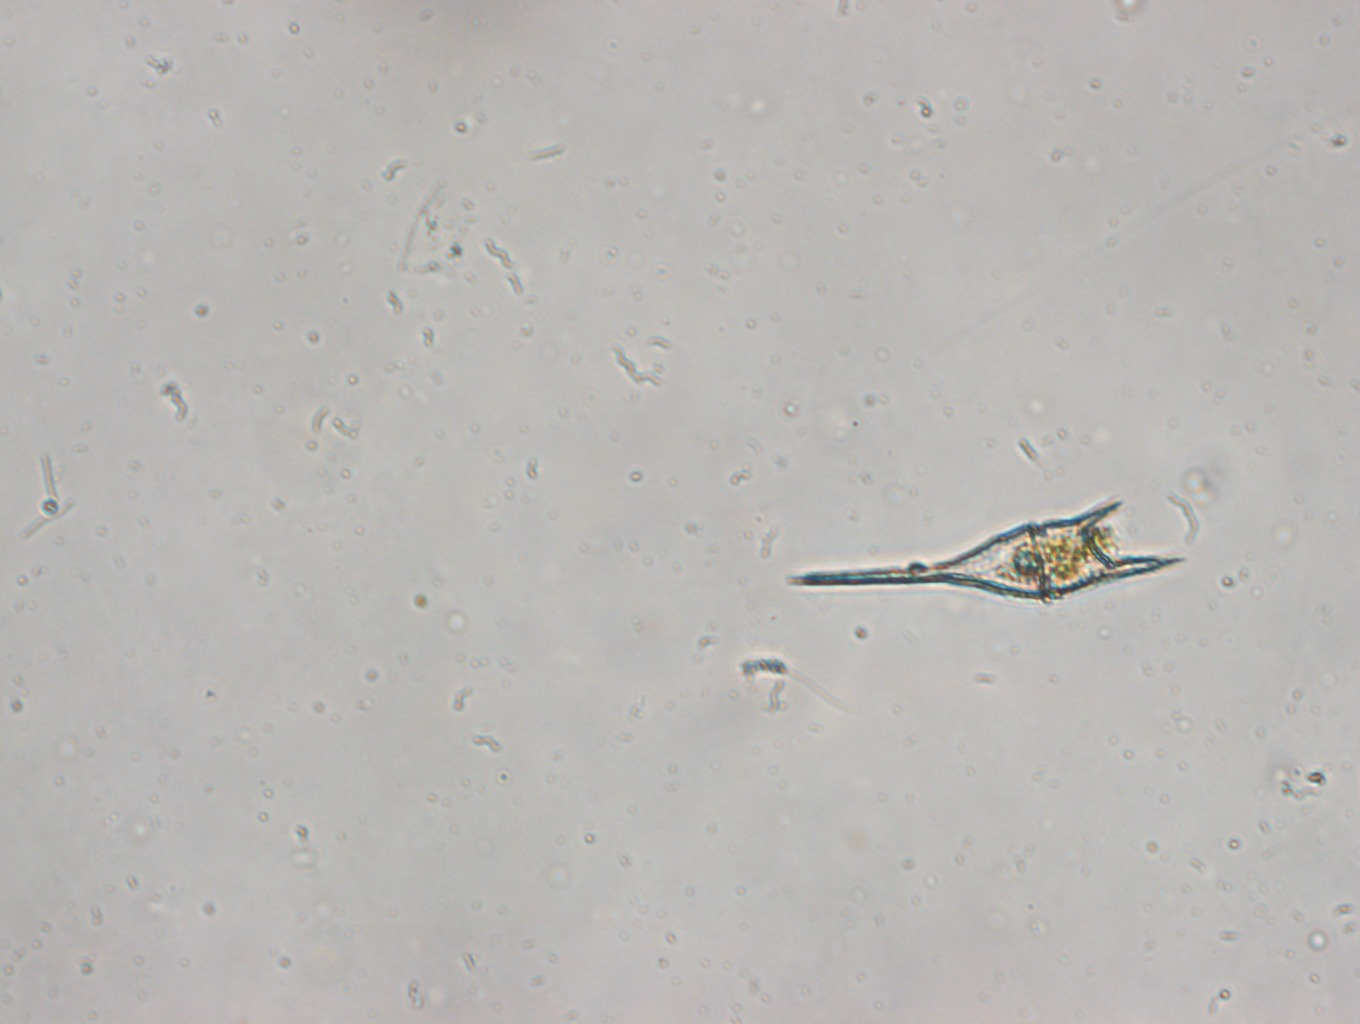ceratium furca: (787, 494, 1192, 607)
